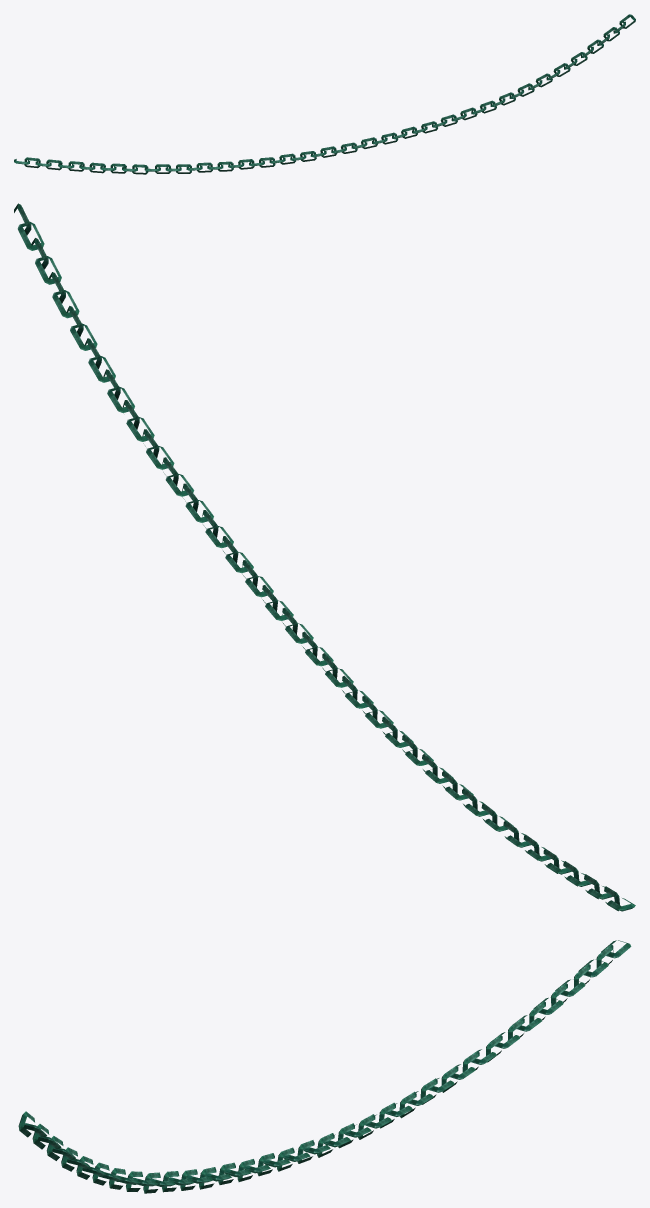
Rendered from 5st_chain_004.glb.
3 renders of one model, top to bottom at view 1: azimuth 30°, elevation 25°; view 2: azimuth 150°, elevation 25°; view 3: azimuth 270°, elevation 25°, orthographic. The views are drawn at different scales.
Visible parts, largest first — view 1: 5st_chain_04; view 2: 5st_chain_04; view 3: 5st_chain_04.
Boxes of the visible parts, box(x1,y1,x2,y2) form: 5st_chain_04: box(14, 14, 635, 174); 5st_chain_04: box(14, 203, 635, 911); 5st_chain_04: box(18, 940, 631, 1193).
Size of the model in its own units: 38.02 by 11.94 by 21.37.
Materials: 1 (1 with a texture image).
